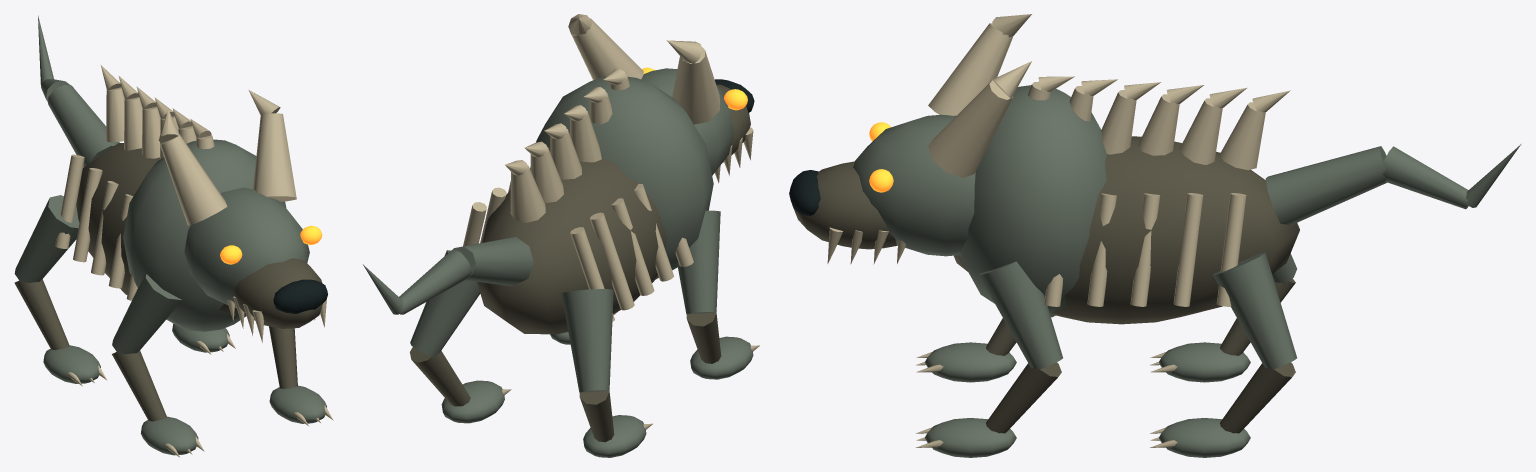
Rendered from grave-hound.glb.
The picture shows the model from 3 angles, left to right: view 1: azimuth 30°, elevation 25°; view 2: azimuth 150°, elevation 25°; view 3: azimuth 270°, elevation 25°; orthographic projection. The views are drawn at different scales.
Visible parts, largest first — view 1: body, head, legLBack, legLFront, legRFront, legRBack; view 2: body, head, legLBack, legRBack, legLFront; view 3: body, head, legRBack, legRFront, legLBack, legLFront.
Part boxes in pixels (box(x1,y1,x2,y2)): body: box(38, 15, 286, 331); head: box(158, 89, 327, 342); legLBack: box(14, 195, 107, 386); legLFront: box(112, 274, 204, 457); legRFront: box(269, 326, 333, 425); legRBack: box(172, 323, 235, 354); body: box(363, 68, 713, 334); head: box(568, 14, 754, 183); legLBack: box(561, 289, 652, 457); legRBack: box(410, 250, 511, 423); legLFront: box(677, 210, 759, 379); body: box(954, 76, 1521, 324); head: box(789, 14, 1031, 264); legRBack: box(1150, 252, 1296, 457); legRFront: box(915, 261, 1062, 457); legLBack: box(1150, 253, 1296, 382); legLFront: box(916, 318, 1016, 382).
Bounding box in the file's own units: 0.8038 × 1.35 × 2.38.
